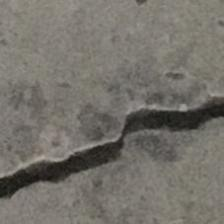Crack: (0, 96, 224, 207)
